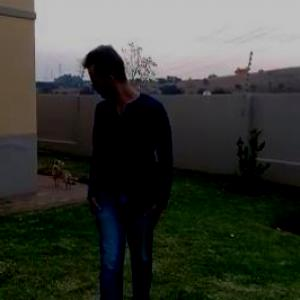follow: (77, 13, 170, 270)
